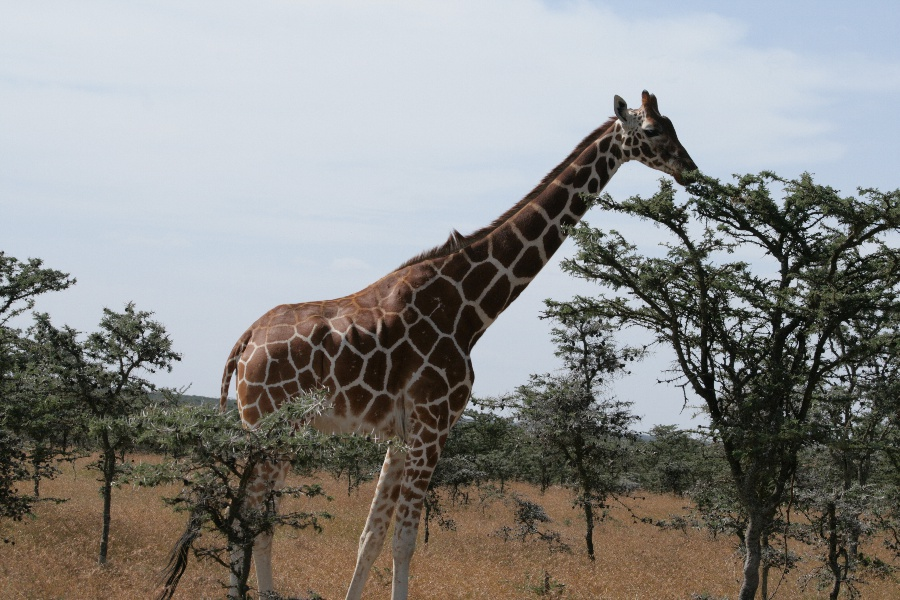giraffe: (206, 78, 705, 598)
